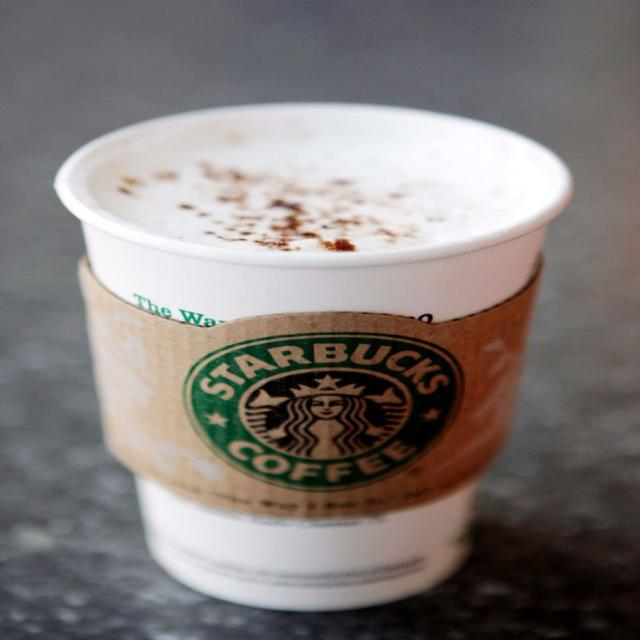paper cup: (56, 102, 574, 612)
